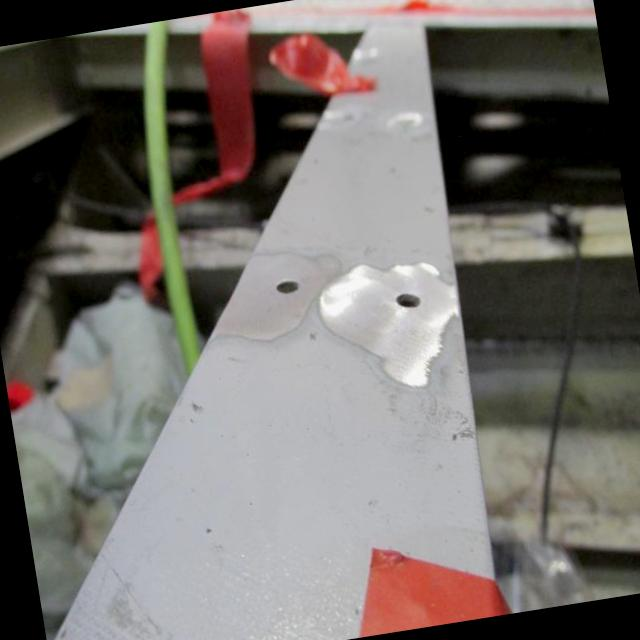Missing Fastener: (378, 262, 446, 333), (258, 255, 320, 318)
